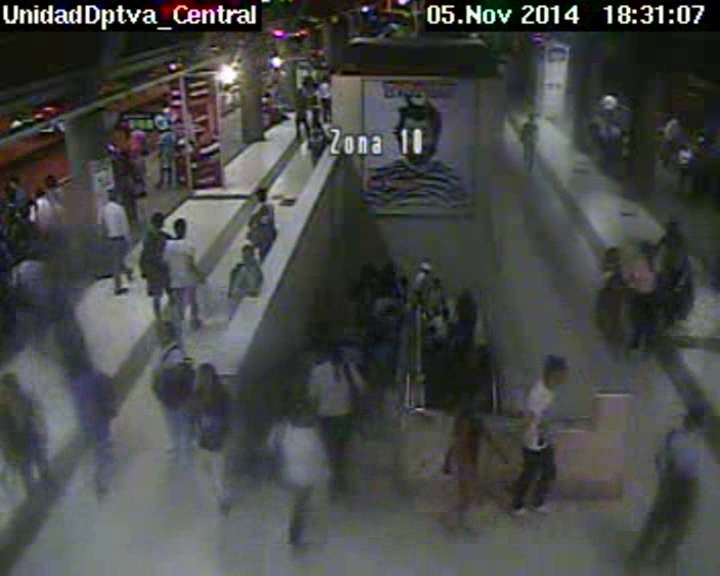person: (543, 354, 569, 387), (684, 400, 709, 430), (193, 363, 218, 391), (288, 399, 313, 425), (152, 321, 177, 346), (169, 214, 189, 240), (457, 396, 480, 418), (323, 342, 344, 363), (149, 211, 168, 233), (237, 245, 258, 264), (71, 353, 92, 371), (636, 239, 654, 257), (603, 245, 620, 264), (253, 187, 271, 204), (663, 219, 680, 236), (4, 372, 21, 389), (103, 187, 121, 203), (17, 248, 32, 263), (419, 262, 433, 275), (461, 286, 475, 299), (437, 305, 451, 318), (34, 185, 47, 199), (8, 181, 23, 193), (44, 174, 57, 187), (432, 276, 444, 289), (120, 149, 133, 161), (524, 113, 536, 125), (132, 125, 144, 136), (398, 278, 410, 289), (387, 260, 398, 272), (383, 305, 394, 316), (312, 118, 323, 128), (159, 124, 170, 134), (363, 267, 374, 277), (678, 142, 688, 152), (671, 110, 680, 120), (381, 288, 391, 297), (310, 82, 319, 91), (295, 89, 304, 97), (606, 88, 614, 96), (264, 92, 271, 100), (322, 74, 329, 81), (273, 67, 279, 72)
